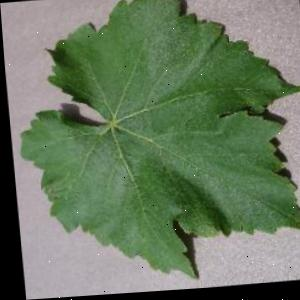Folha: (5, 0, 300, 294)
